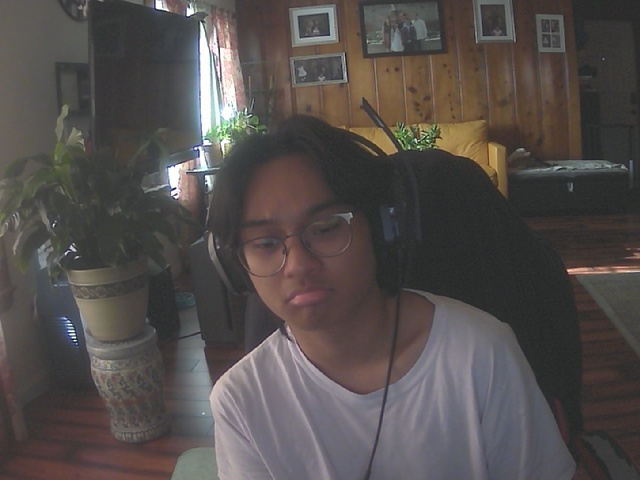sad: (233, 141, 372, 333)
